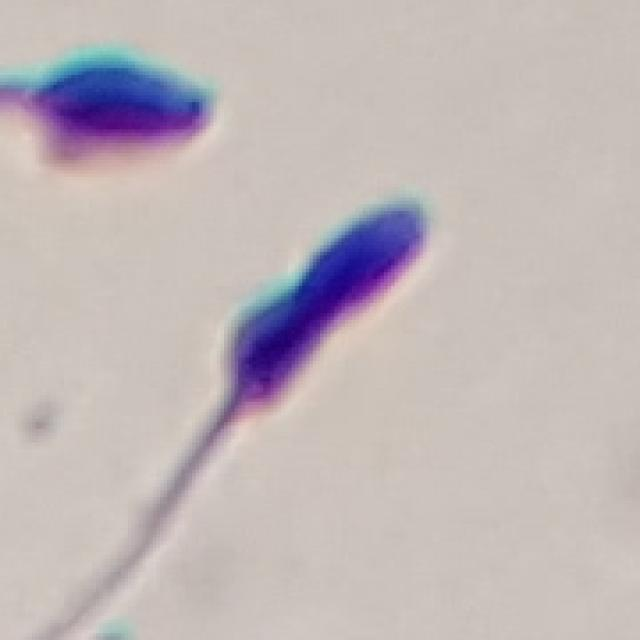abnormal sperm: (167, 202, 433, 494)
